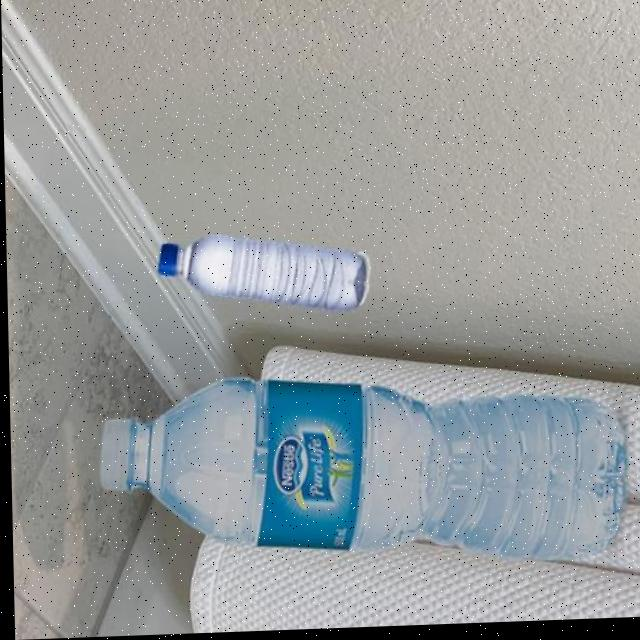bottle: (96, 364, 630, 581), (155, 230, 371, 320)
